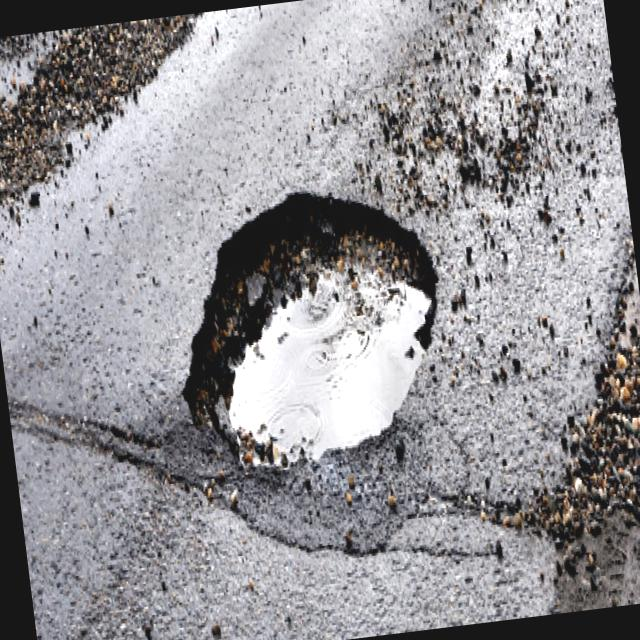bad-road: (159, 174, 460, 479)
